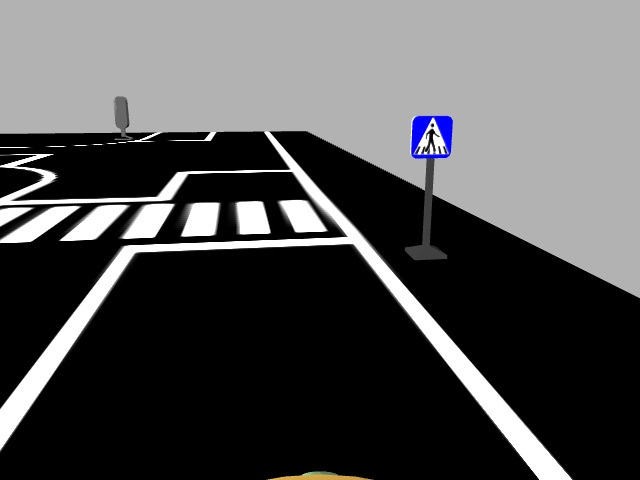Crosswalk: (411, 112, 453, 157)
